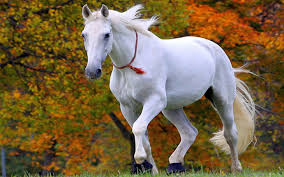Horse: (57, 1, 262, 173)
